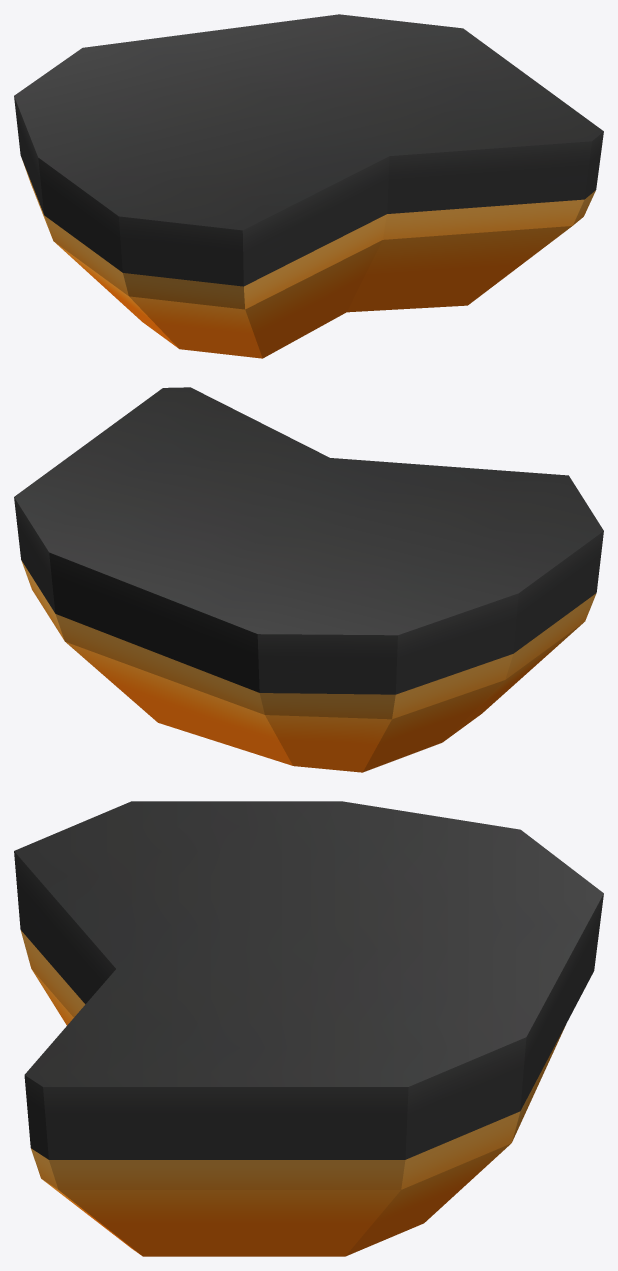
Rendered from W3_PLATFORM_3.fbx.
3 views of the same model, one above another, from view 1: azimuth 30°, elevation 25°; view 2: azimuth 150°, elevation 25°; view 3: azimuth 270°, elevation 25° (orthographic). The views are drawn at different scales.
Visible parts, largest first — view 1: W3_PLATFORM_3; view 2: W3_PLATFORM_3; view 3: W3_PLATFORM_3.
Part boxes in pixels (x1=…): W3_PLATFORM_3: x1=14, y1=14, x2=603, y2=358; W3_PLATFORM_3: x1=14, y1=387, x2=603, y2=772; W3_PLATFORM_3: x1=14, y1=801, x2=603, y2=1256.
Bounding box in the file's own units: 987 × 365 × 861.
